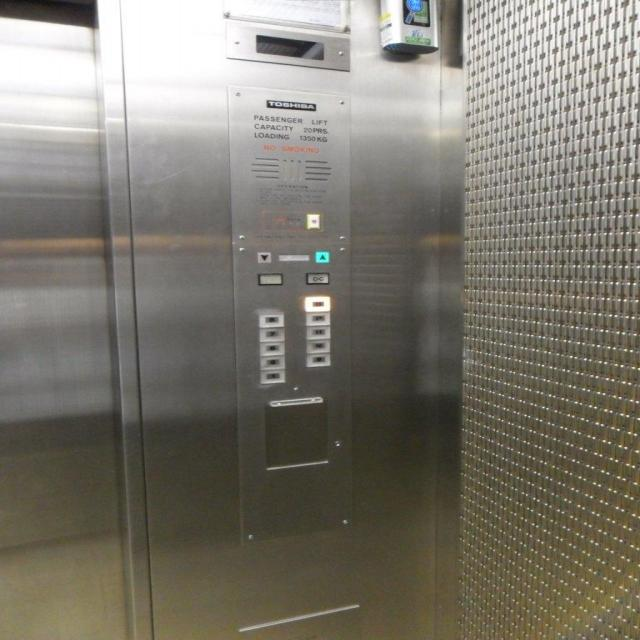1: (259, 369, 284, 383)
10: (306, 340, 329, 352)
11: (306, 326, 329, 338)
12: (304, 312, 328, 324)
13: (304, 296, 329, 312)
5: (258, 356, 284, 368)
6: (259, 342, 284, 356)
7: (258, 328, 284, 342)
8: (258, 311, 284, 327)
9: (306, 353, 331, 366)
DC: (304, 271, 331, 285)
down: (255, 251, 272, 263)
empty: (256, 272, 283, 286)
text: (305, 212, 323, 230)
up: (313, 251, 329, 263)
